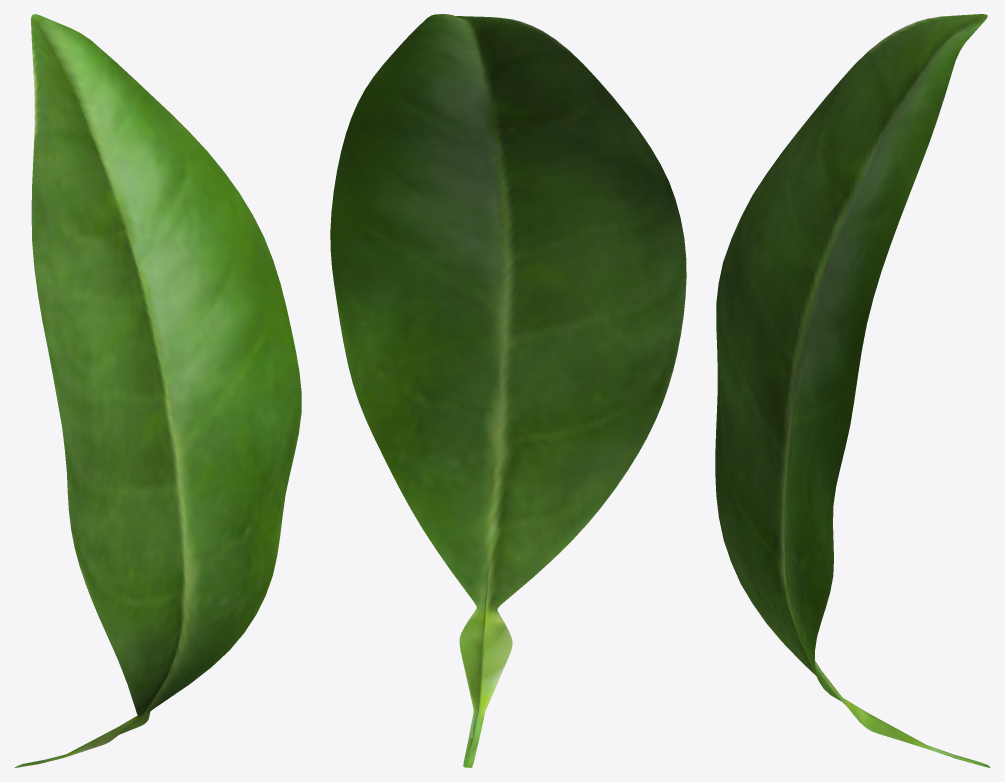
File: leaf.gltf
The picture shows the model from 3 angles, left to right: view 1: azimuth 30°, elevation 25°; view 2: azimuth 150°, elevation 25°; view 3: azimuth 270°, elevation 25°; orthographic projection.
Visible parts, largest first — view 1: Object_4.002; view 2: Object_4.002; view 3: Object_4.002.
Part boxes in pixels (<box>): Object_4.002: <box>14,14,301,767</box>; Object_4.002: <box>330,14,686,767</box>; Object_4.002: <box>715,14,990,767</box>.
Size of the model in its own units: 0.3087 by 0.7472 by 0.2457.
Materials: 1 (1 with a texture image).
